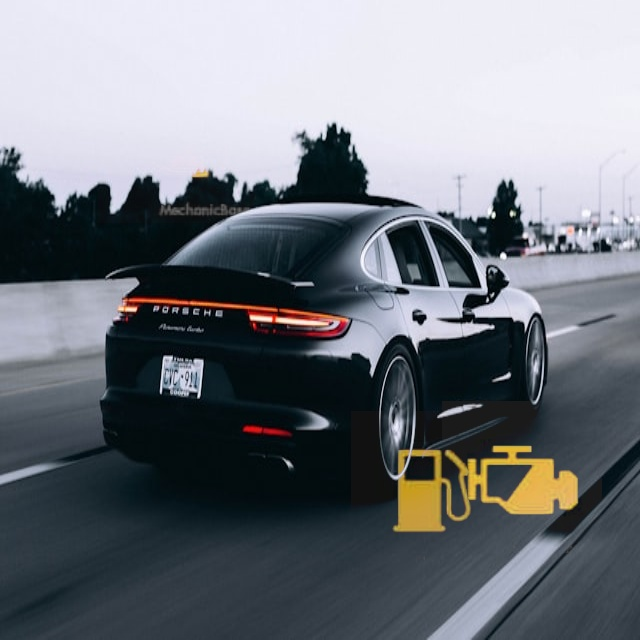symbol: (351, 411, 513, 573), (442, 401, 602, 561), (98, 65, 256, 223)
